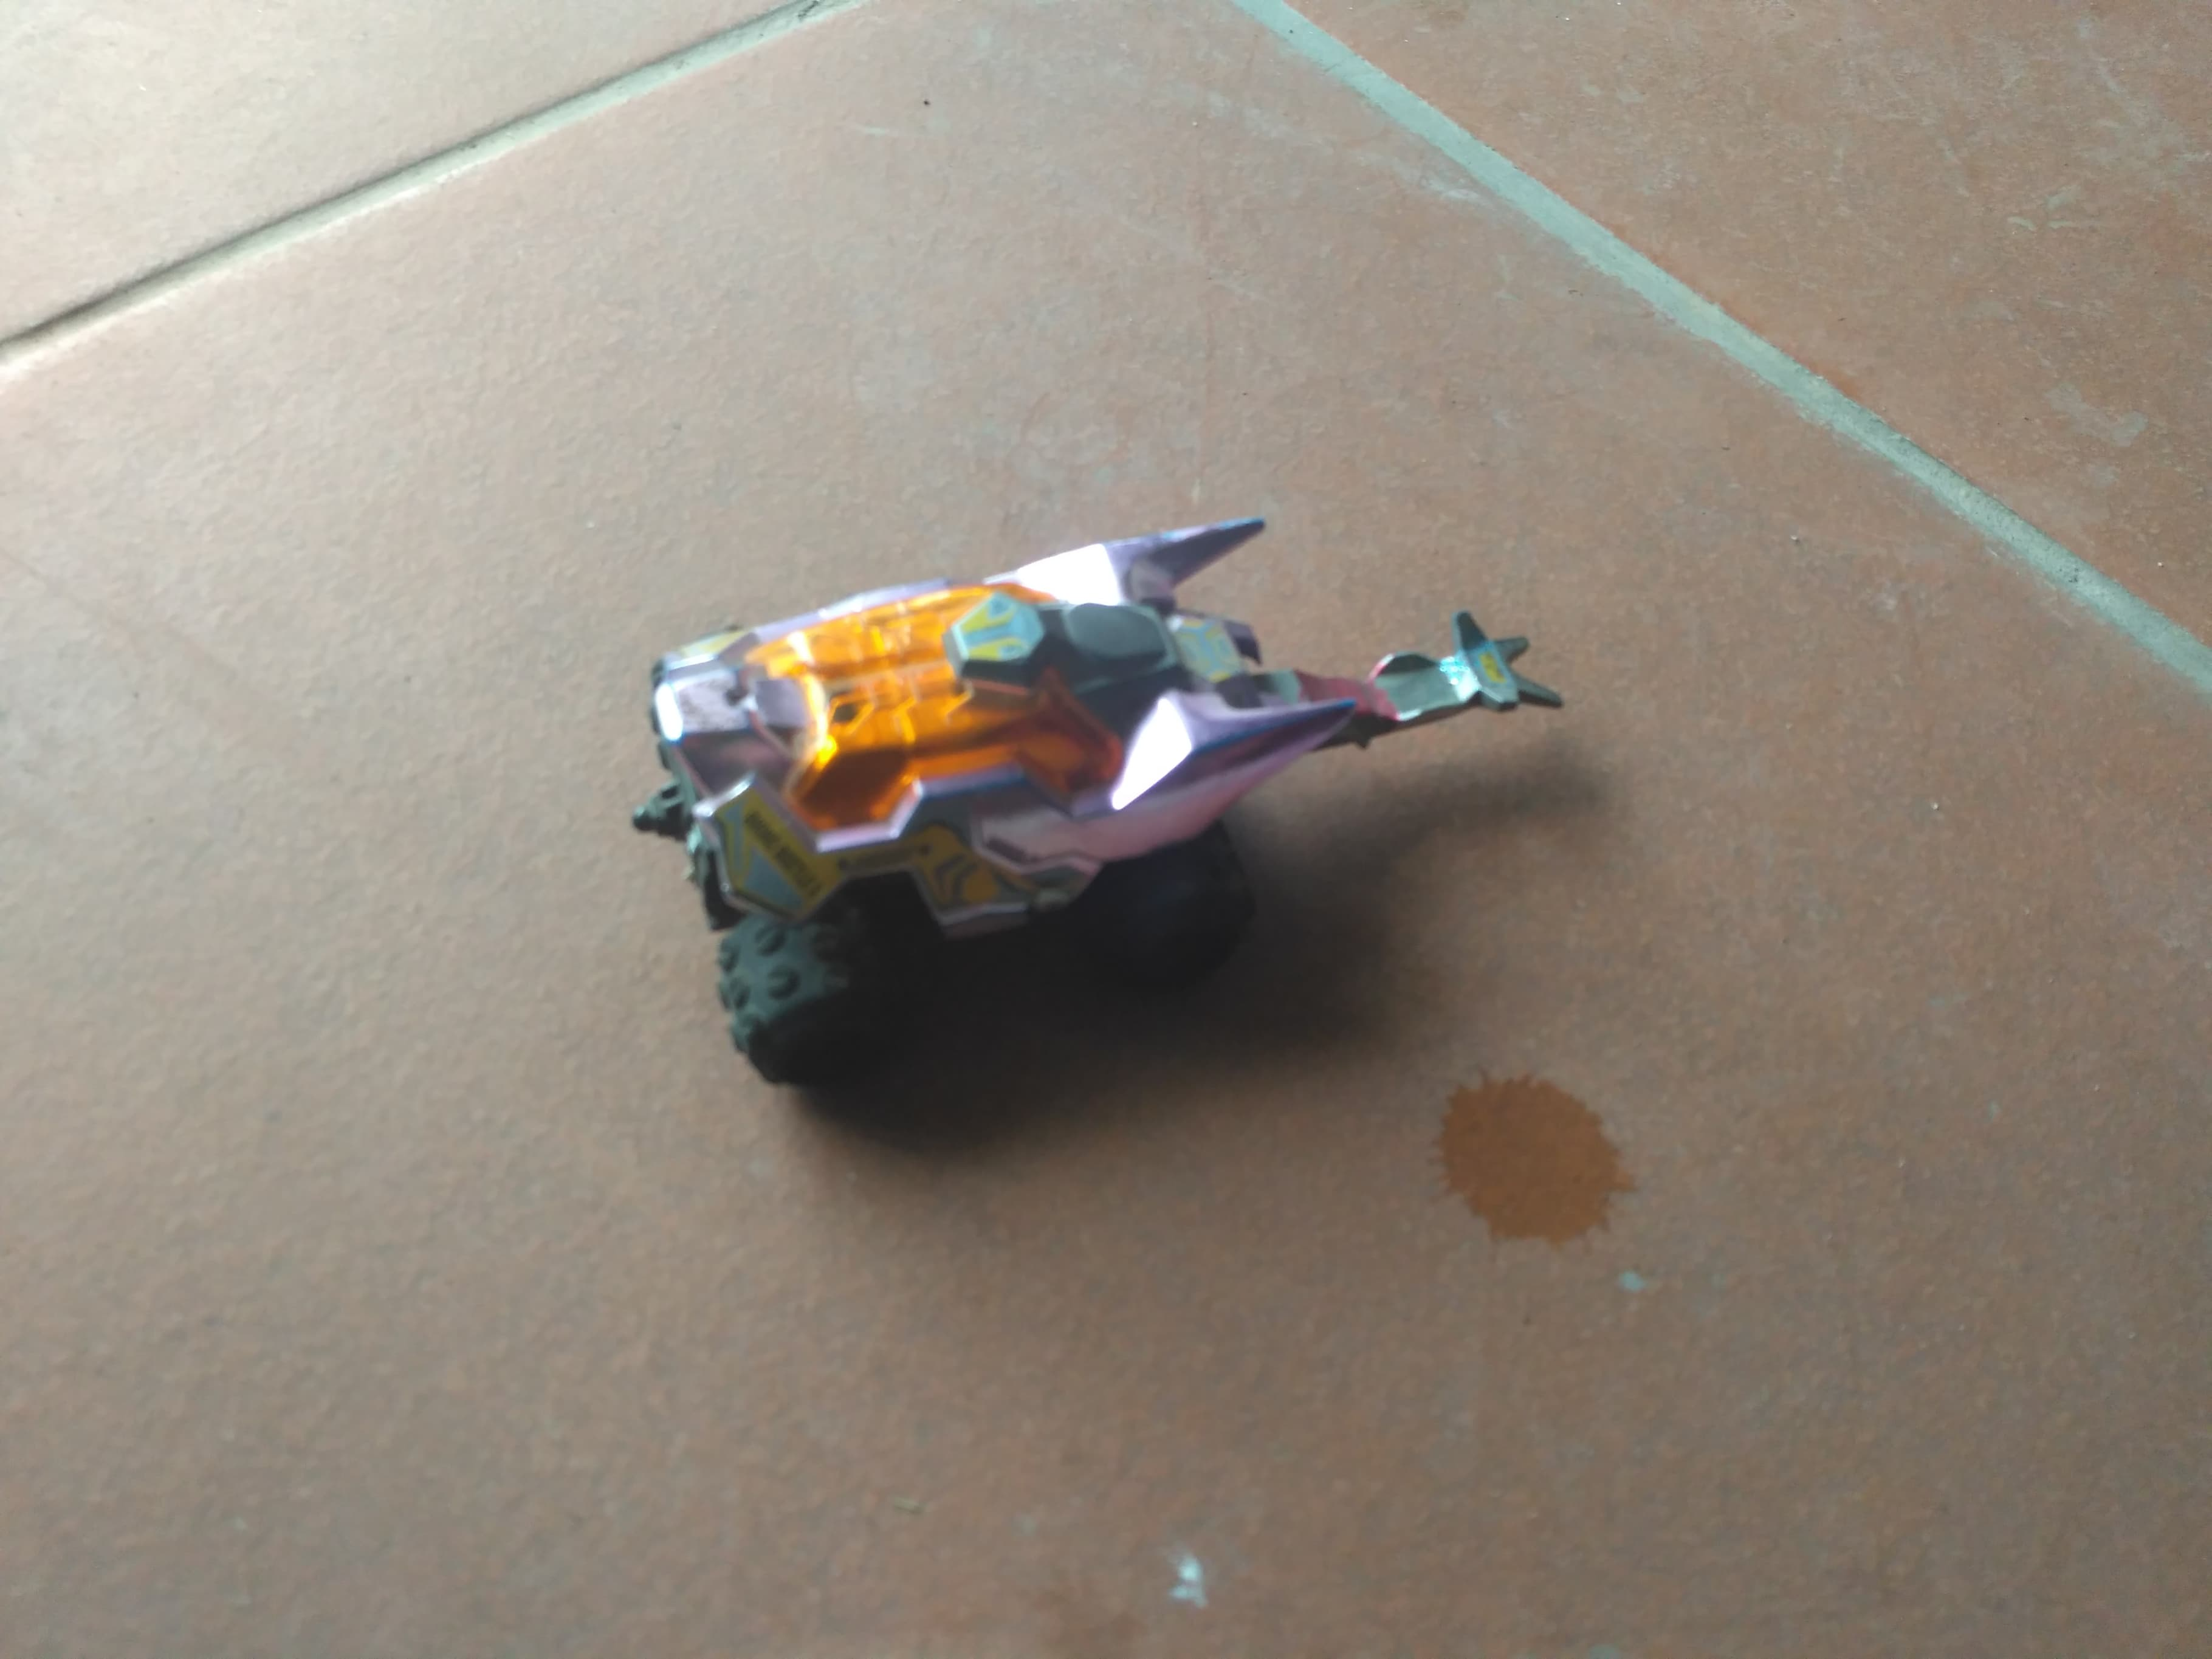rhino: (618, 504, 1585, 1089)
